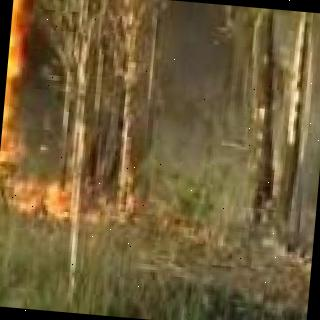fire: (0, 0, 44, 176), (2, 177, 80, 222)
